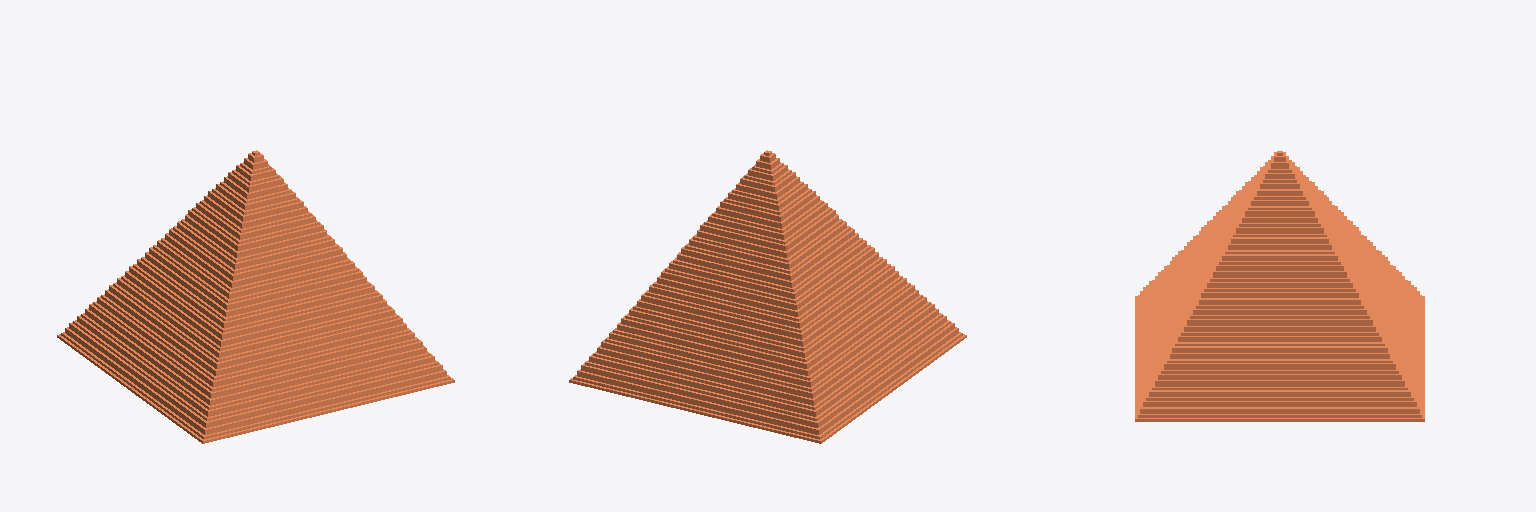
The picture shows the model from 3 angles: view 1: azimuth 30°, elevation 25°; view 2: azimuth 150°, elevation 25°; view 3: azimuth 270°, elevation 25°; orthographic projection.
Parts seen in each view (by area): view 1: object 1; view 2: object 1; view 3: object 1.
Part boxes in pixels (bbox=[...]): object 1: bbox=[57, 150, 454, 443]; object 1: bbox=[569, 150, 966, 443]; object 1: bbox=[1135, 151, 1424, 421].
Size of the model in its own units: 10 by 7.9 by 10.
1 materials, 1 textured.